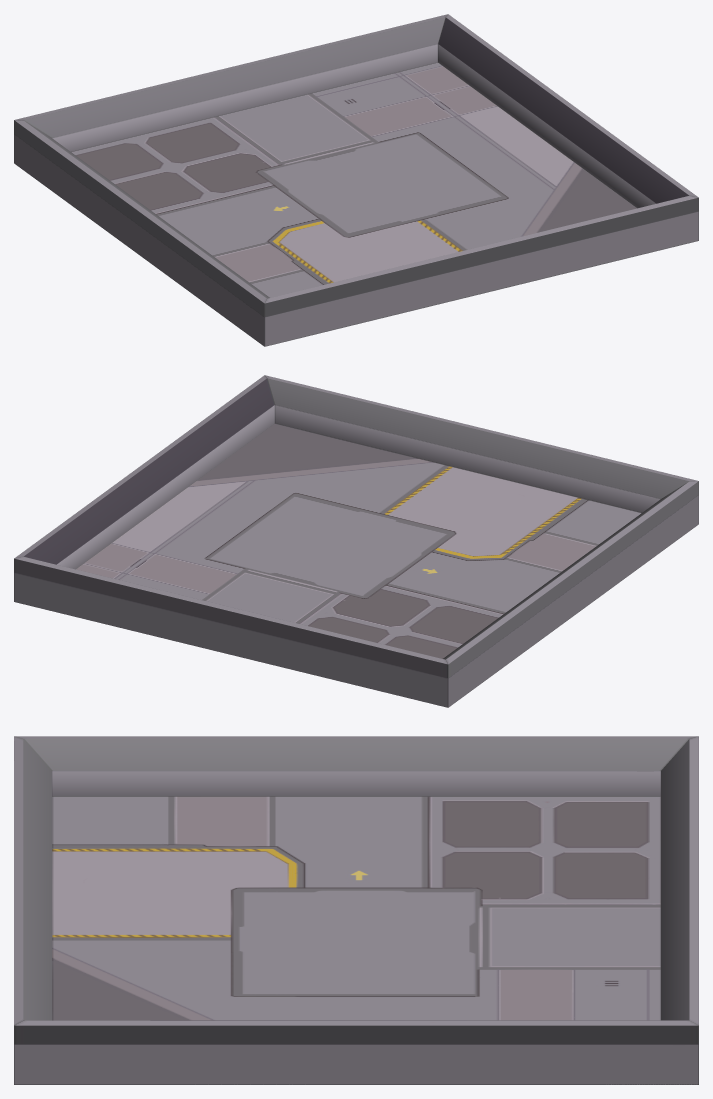
The picture shows the model from 3 angles, top to bottom: view 1: azimuth 30°, elevation 25°; view 2: azimuth 150°, elevation 25°; view 3: azimuth 270°, elevation 25°; orthographic projection. The views are drawn at different scales.
Visible parts, largest first — view 1: pCube1; view 2: pCube1; view 3: pCube1.
Boxes of the visible parts, bbox=[...] form: pCube1: bbox=[14, 14, 698, 346]; pCube1: bbox=[14, 375, 698, 707]; pCube1: bbox=[14, 736, 698, 1084].
Bounding box in the file's own units: 27.44 × 2.67 × 27.44.
1 material, 1 textured.
